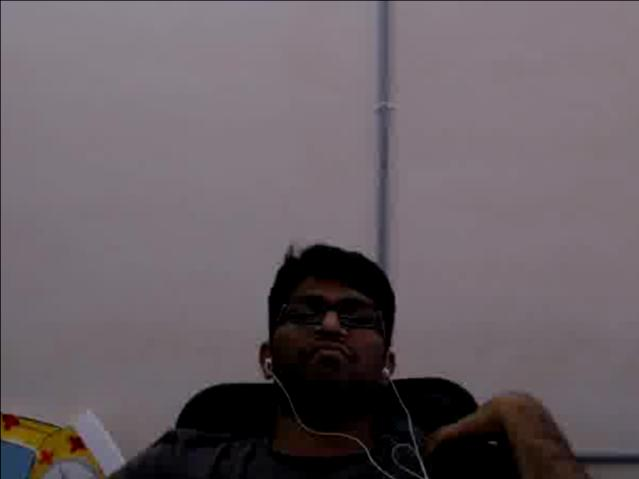bosan: (276, 274, 374, 388)
